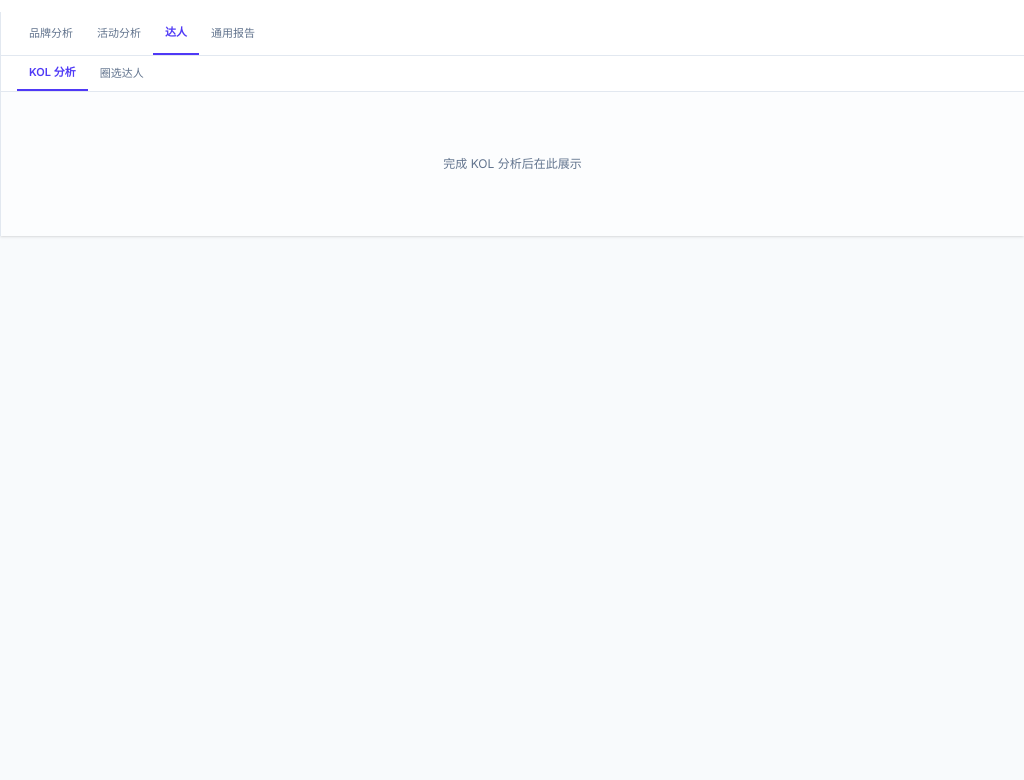
Test case: ArtifactWorkspace › restricted 产物展示受限标记
Step 1. Click the tab "品牌分析" → {"x": 51, "y": 34}, box [17,12,85,55]
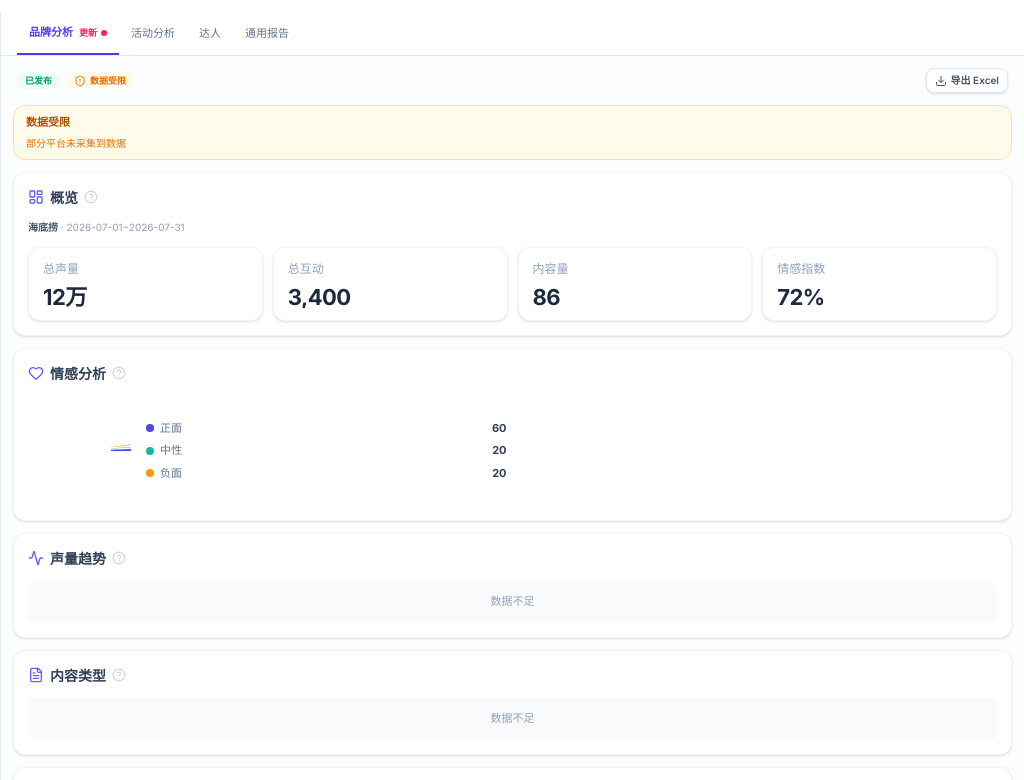
Result: the text "数据受限" is shown at [66,72,134,89]
Result: the text "部分平台未采集到数据" is shown at [26,136,126,148]
